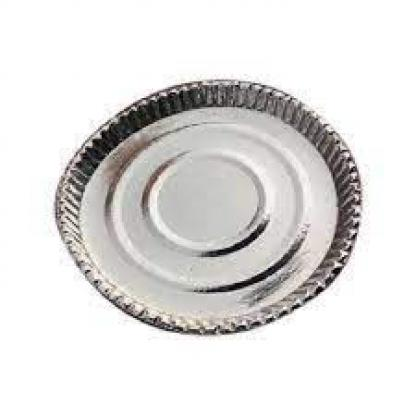METAL: (53, 78, 361, 333)
